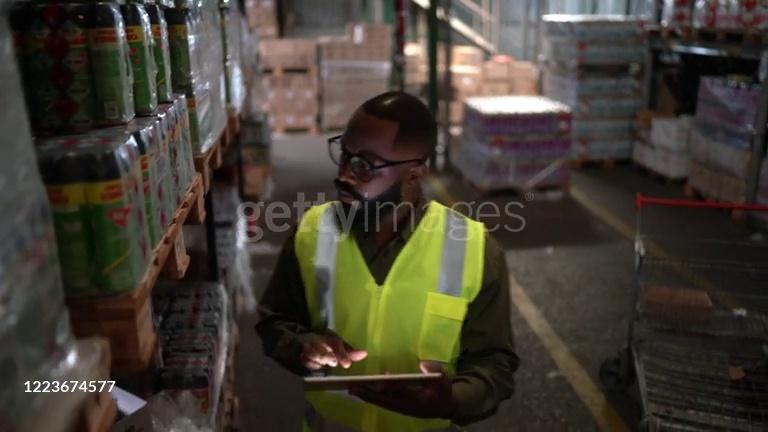person: (253, 88, 519, 427)
